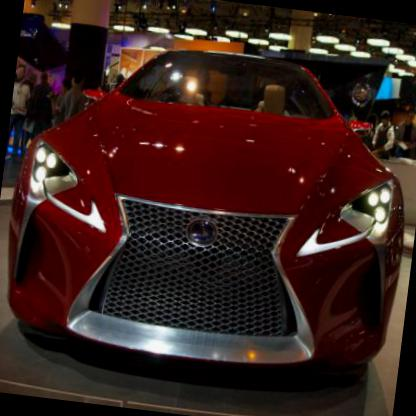car: (0, 26, 415, 387)
